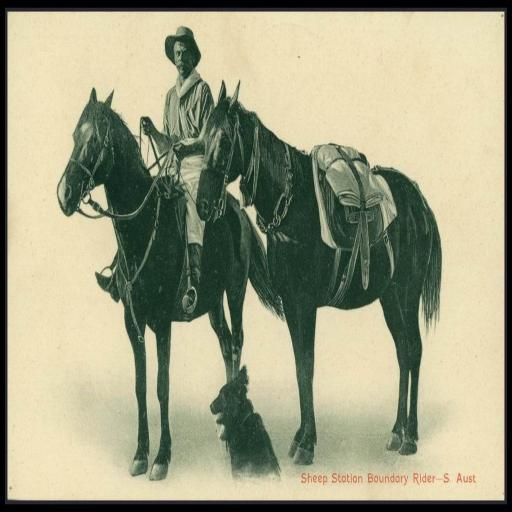Horse: (194, 78, 442, 470), (55, 86, 285, 480)
